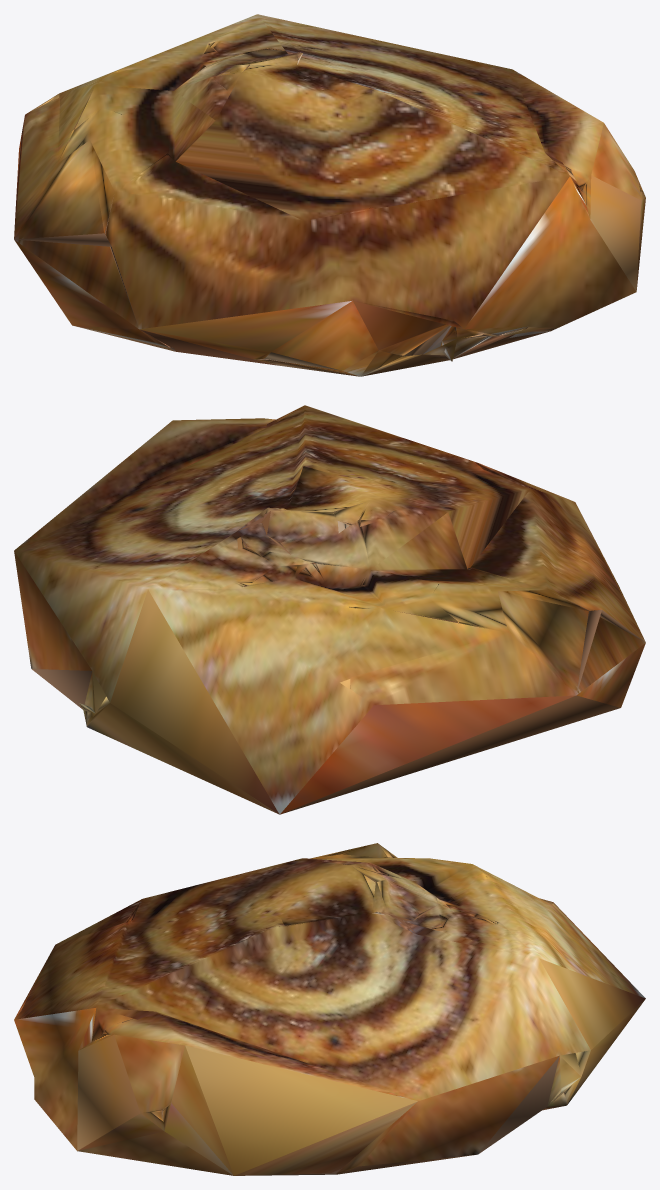
The model's file is cinnamon_708.obj.
3 views of the same model, one above another, from view 1: azimuth 30°, elevation 25°; view 2: azimuth 150°, elevation 25°; view 3: azimuth 270°, elevation 25° (orthographic). The views are drawn at different scales.
Size of the model in its own units: 110 by 34.43 by 116.
Materials: 1 (1 with a texture image).
